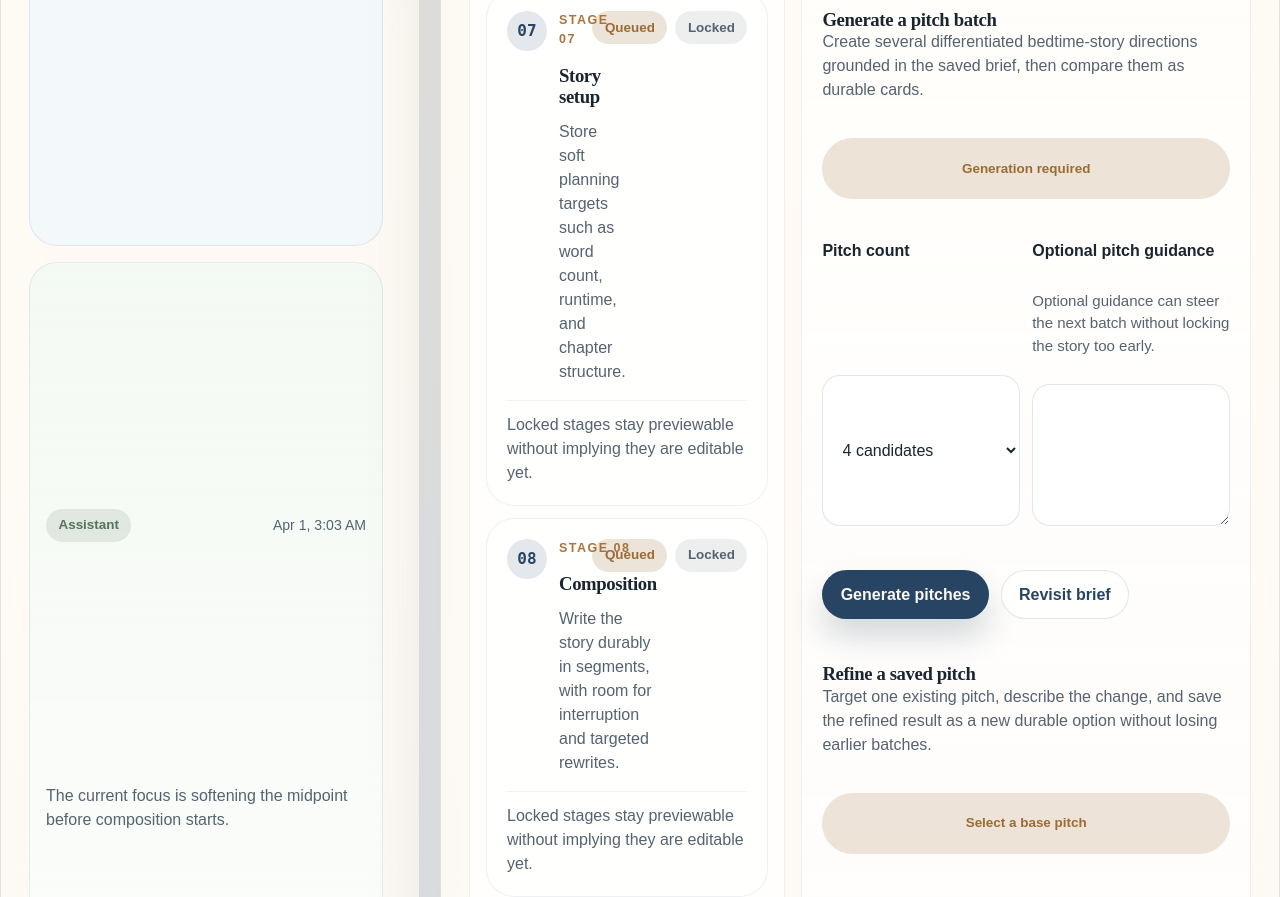
it: SessionWorkspacePage › generates a durable pitch batch from the pitches stage
(page scrolled)
expect the heading "Generate a pitch batch" is shown: met, box [822, 9, 996, 30]
Select "5 candidates" in the dropdown labelled "Pitch count" at (921, 451), box [822, 375, 1020, 526]
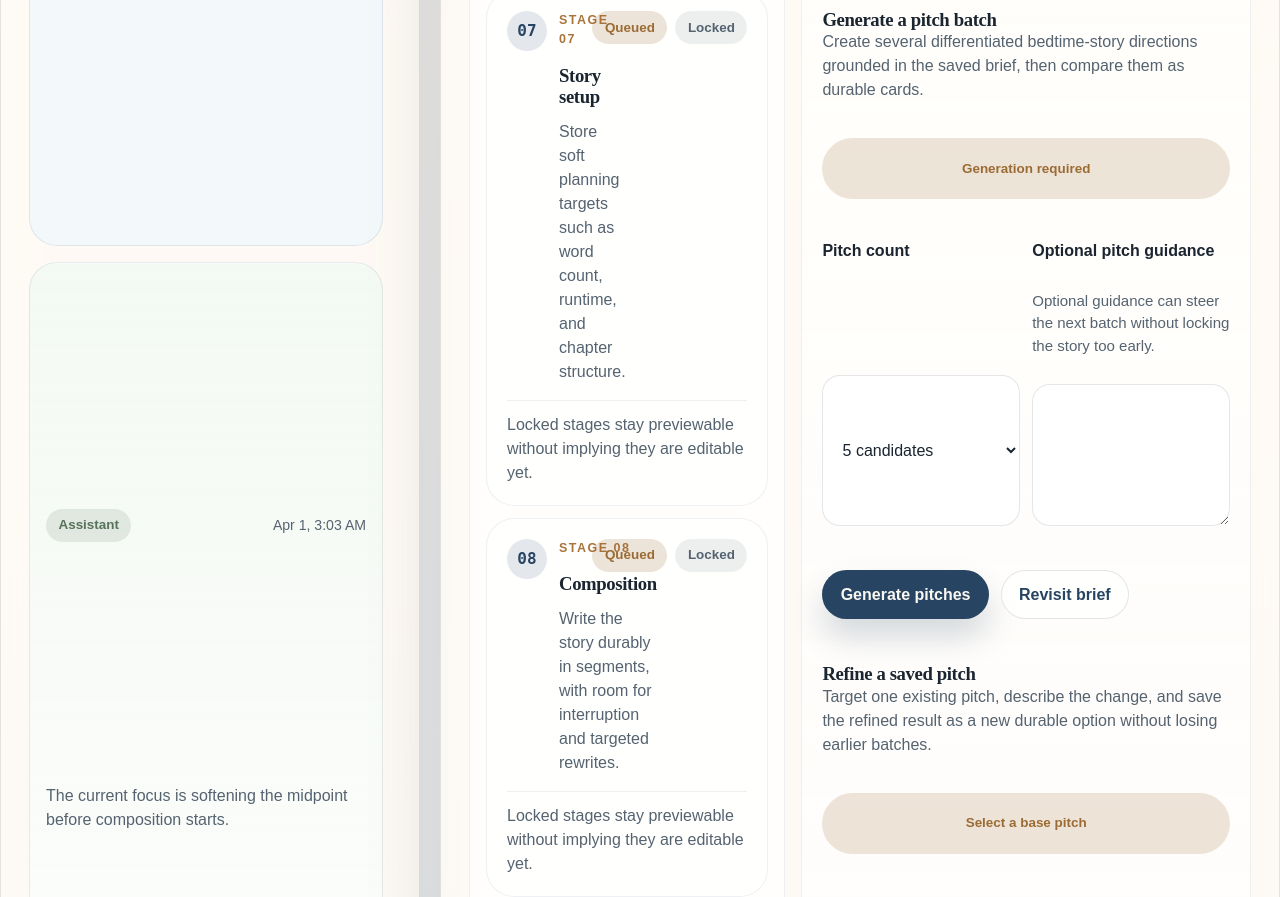
Type "Lean toward a gentler mystery with a clearer reunion at the end." into the text box labelled "Optional pitch guidance".
click(1131, 455); type("Lean toward a gentler mystery with a clearer reunion at the end.")  # box [1032, 384, 1230, 526]
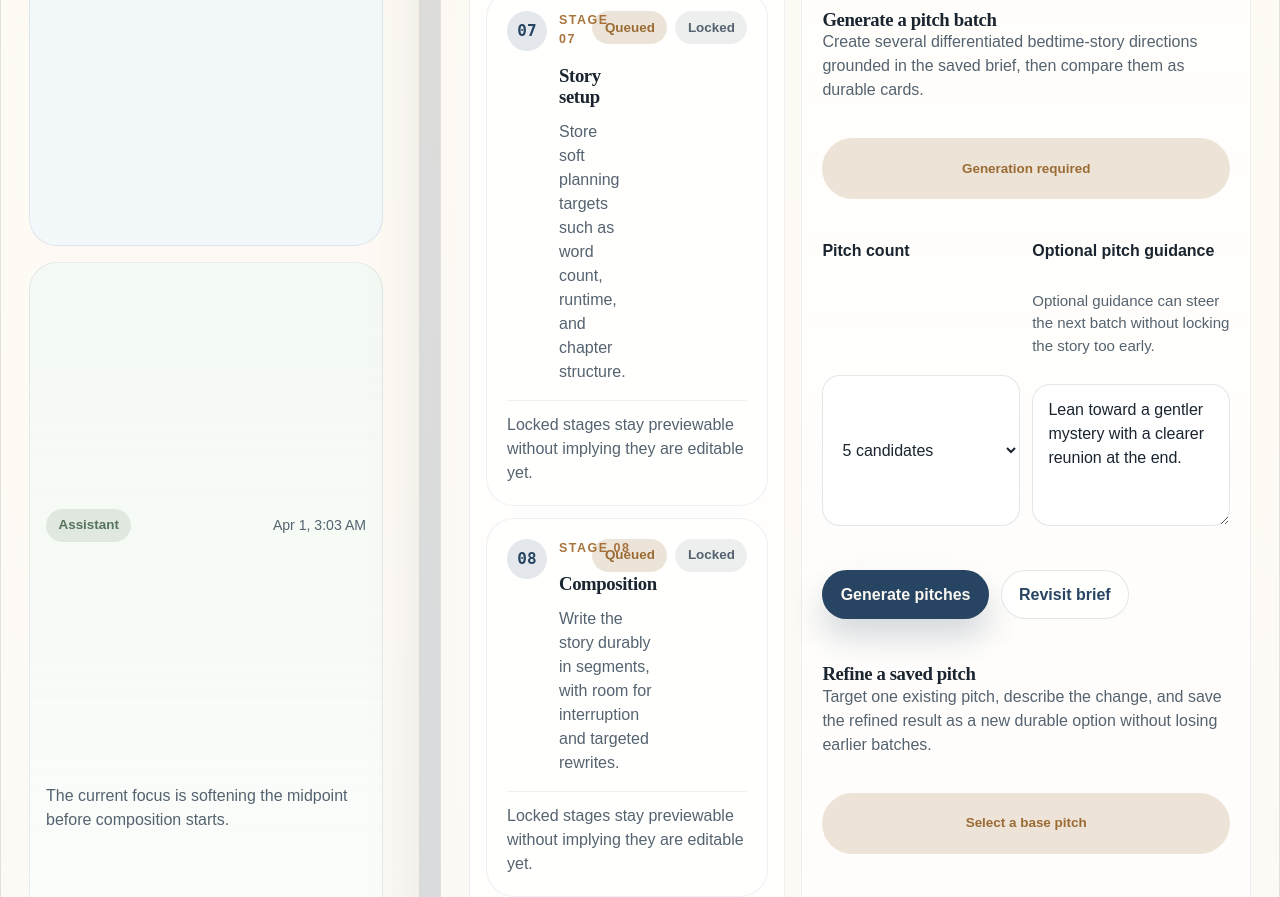
Click the button "Generate pitches".
click(906, 595)  # box [822, 570, 989, 619]
(page scrolled)
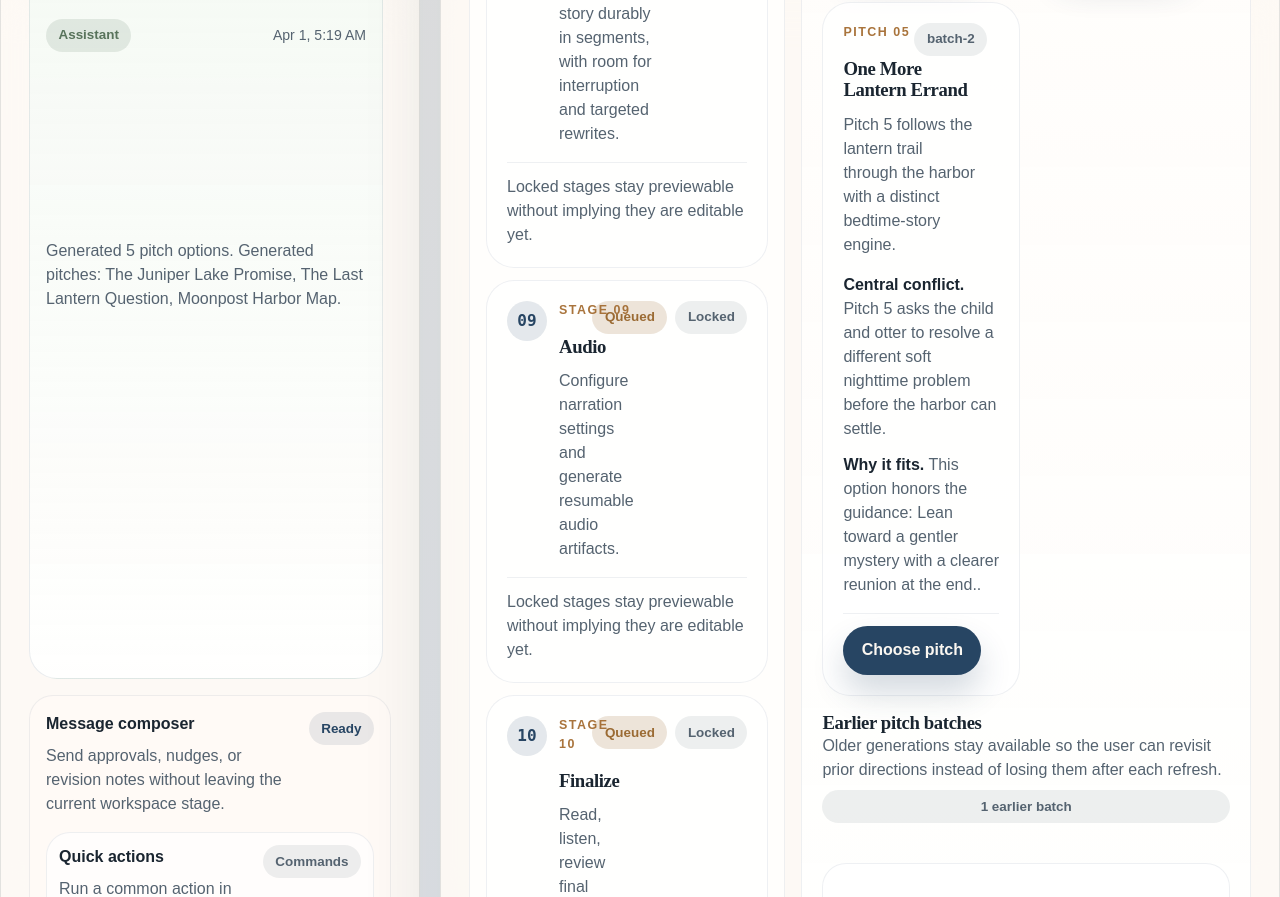
expect the text "Generated 5 pitch options" is shown: met, box [46, 242, 367, 307]
